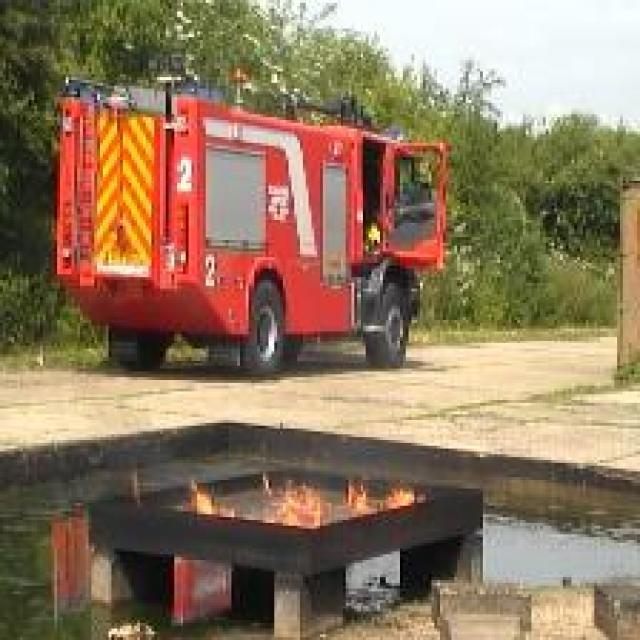Fire: (262, 476, 324, 530), (188, 483, 240, 520), (344, 480, 378, 514), (387, 484, 419, 510)
